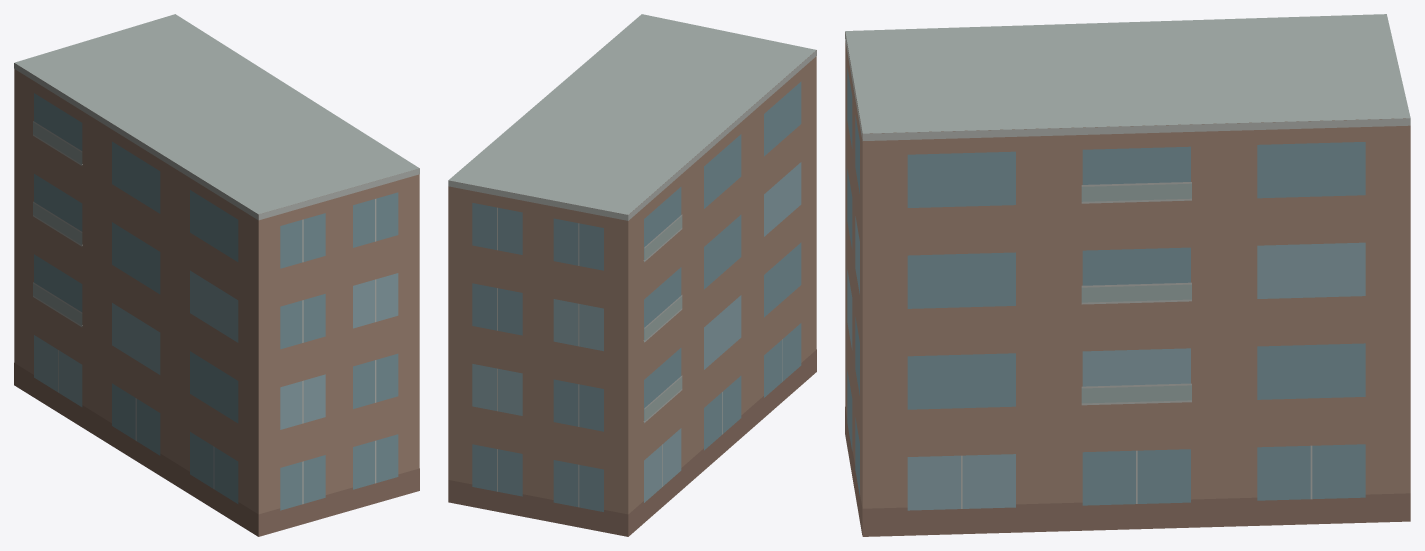
Rendered from survey-upis-33019678.glb.
3 views of the same model, side by side, from view 1: azimuth 30°, elevation 25°; view 2: azimuth 150°, elevation 25°; view 3: azimuth 270°, elevation 25° (orthographic). The views are drawn at different scales.
Visible parts, largest first — view 1: survey-upis-33019678.tmp; view 2: survey-upis-33019678.tmp; view 3: survey-upis-33019678.tmp.
Boxes of the visible parts, left/top/right/bottom form: survey-upis-33019678.tmp: left=14, top=14, right=419, bottom=536; survey-upis-33019678.tmp: left=448, top=14, right=816, bottom=536; survey-upis-33019678.tmp: left=845, top=14, right=1410, bottom=536.
Bounding box in the file's own units: 8.35 × 13.1 × 16.66.
